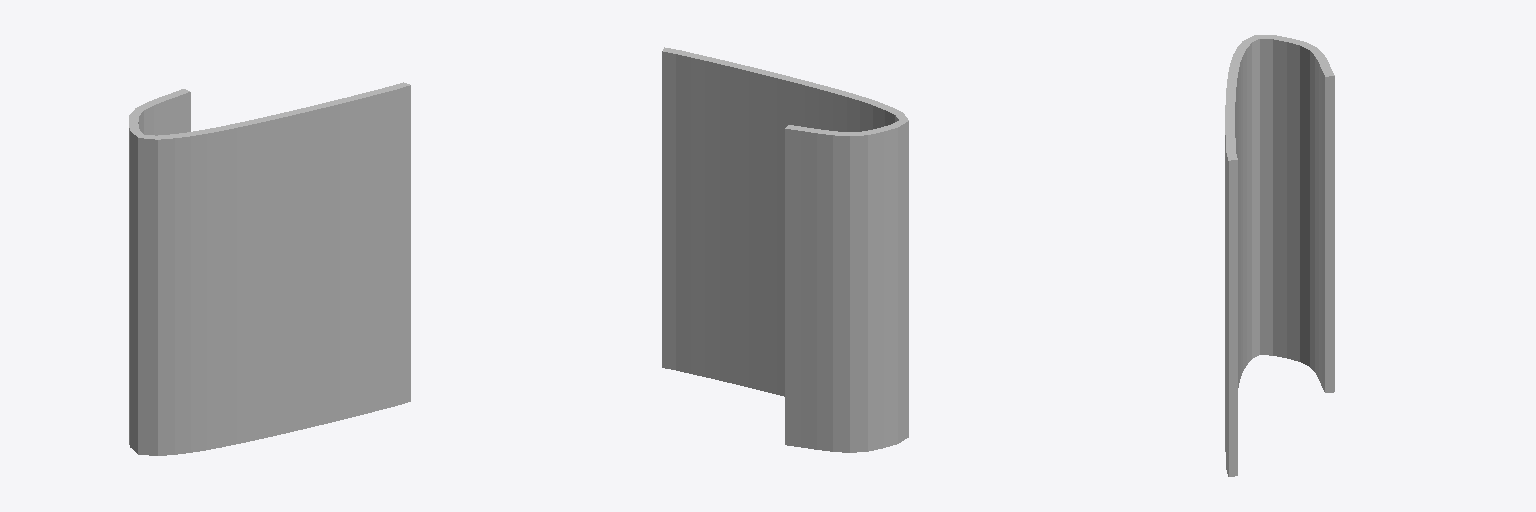
Rendered from SimpleFold1.obj.
The picture shows the model from 3 angles: view 1: azimuth 30°, elevation 25°; view 2: azimuth 150°, elevation 25°; view 3: azimuth 270°, elevation 25°; orthographic projection.
Parts seen in each view (by area): view 1: Cube_Cube.001; view 2: Cube_Cube.001; view 3: Cube_Cube.001.
Boxes of the visible parts, x1,y1,x2,y2 form: Cube_Cube.001: [129, 82, 410, 455]; Cube_Cube.001: [662, 47, 908, 452]; Cube_Cube.001: [1225, 35, 1334, 476].
Bounding box in the file's own units: 4.07 × 4.75 × 1.49.